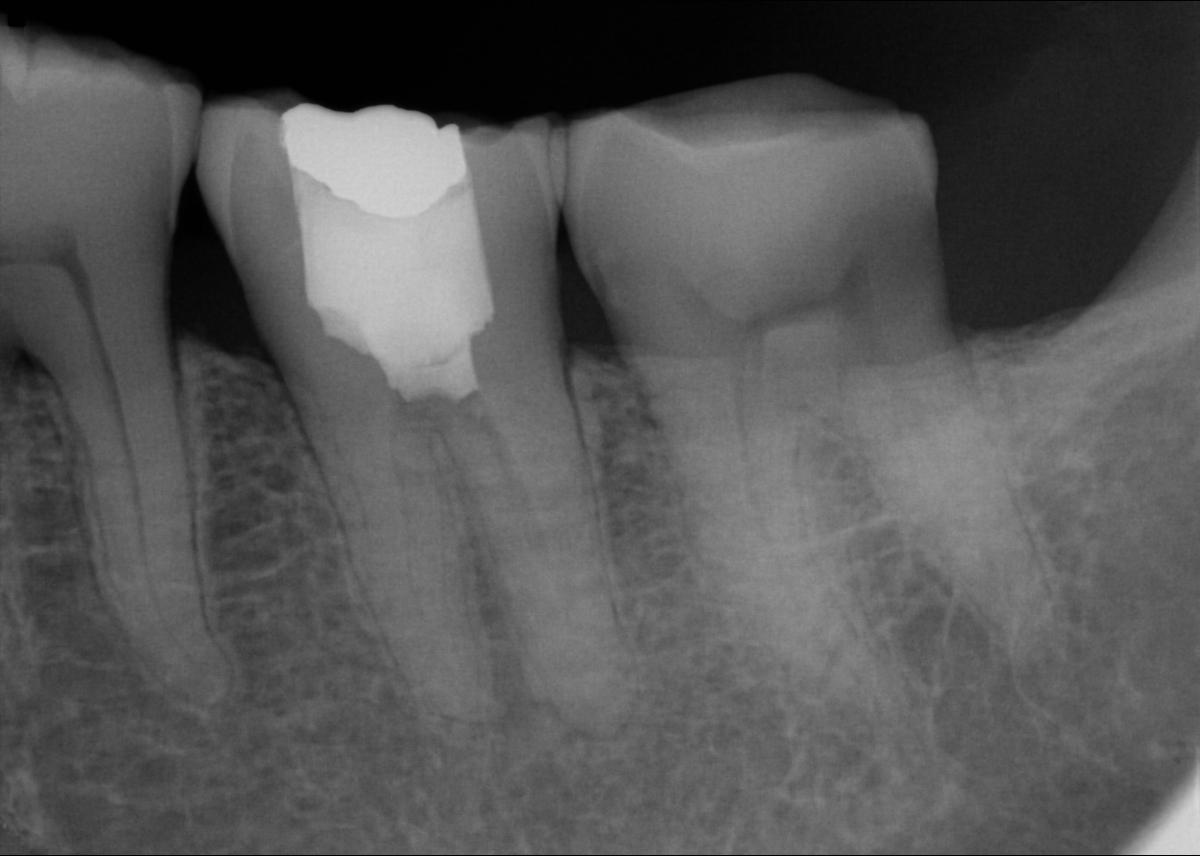Endo-Periodontal Lesion: (6, 339, 51, 388)
